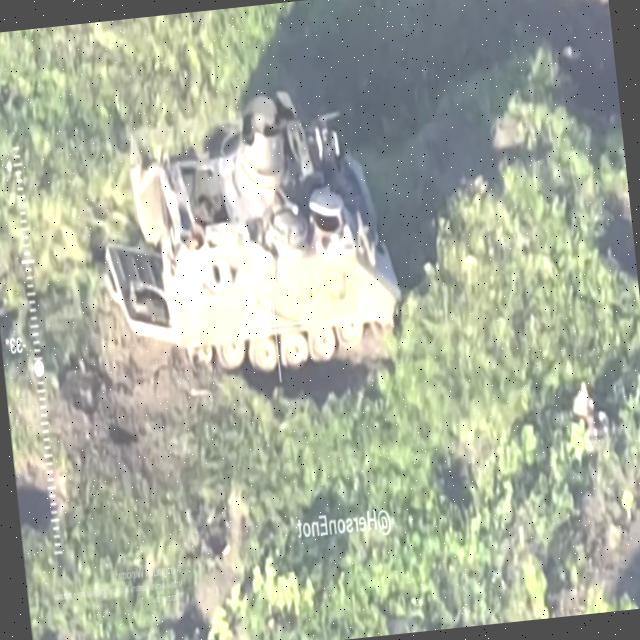APC: (89, 78, 410, 394)
